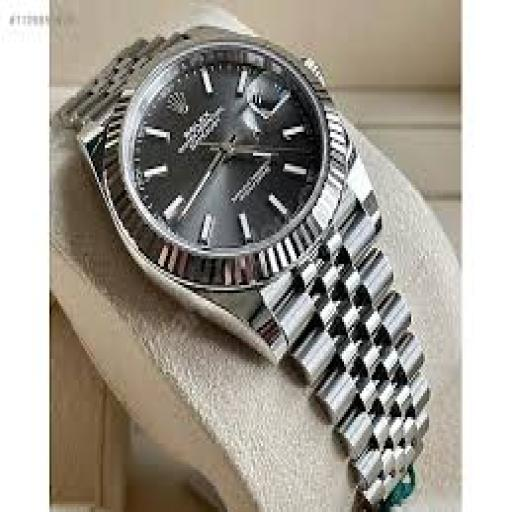KolSaati: (55, 19, 442, 512)
